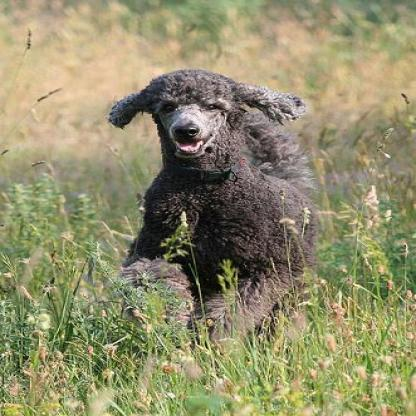standard_poodle: (102, 66, 315, 348)
